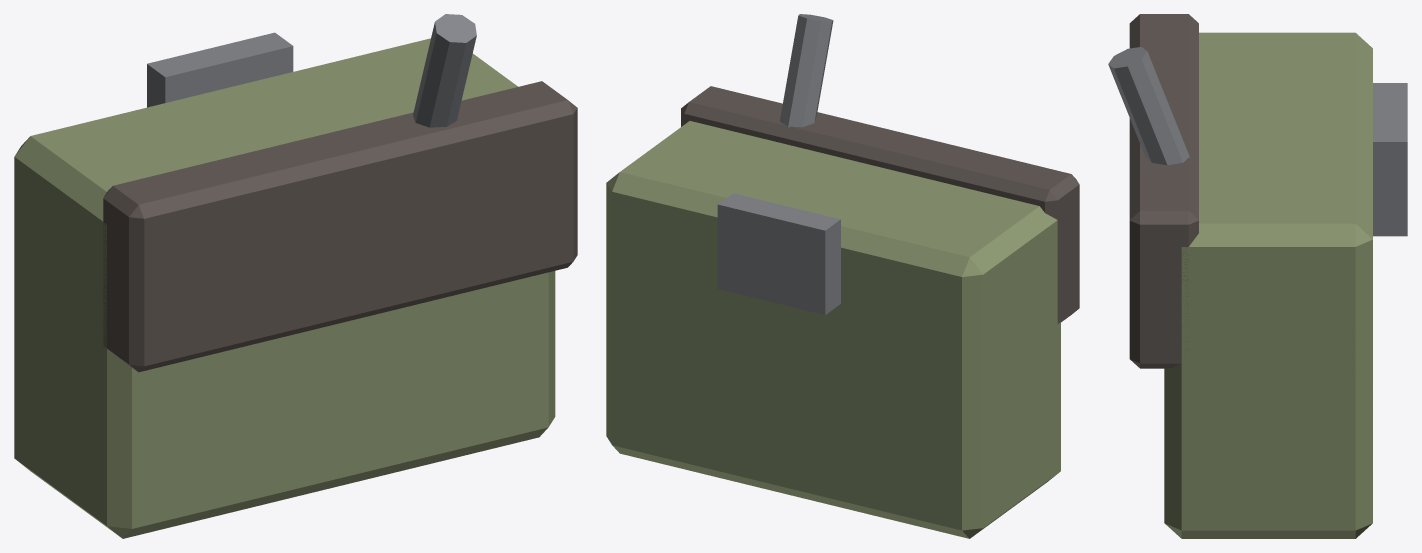
Rendered from defuse_kit.glb.
The picture shows the model from 3 angles, left to right: view 1: azimuth 30°, elevation 25°; view 2: azimuth 150°, elevation 25°; view 3: azimuth 270°, elevation 25°; orthographic projection. The views are drawn at different scales.
Visible parts, largest first — view 1: obj_defuse_kit; view 2: obj_defuse_kit; view 3: obj_defuse_kit.
Part boxes in pixels (bbox=[...]): obj_defuse_kit: bbox=[14, 14, 577, 538]; obj_defuse_kit: bbox=[606, 14, 1079, 538]; obj_defuse_kit: bbox=[1108, 14, 1407, 538].
Size of what is drawn, in the model's own units: 0.14 by 0.1384 by 0.0862.
